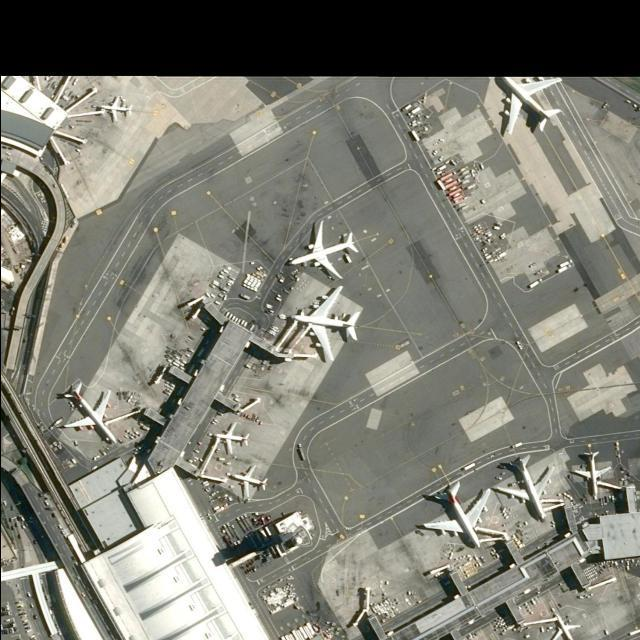Aircraft: (284, 285, 362, 363), (416, 482, 489, 554), (490, 75, 564, 139), (493, 453, 551, 523), (286, 223, 358, 279), (56, 384, 114, 445), (569, 450, 613, 500), (227, 466, 267, 500), (212, 423, 250, 456), (546, 611, 580, 640), (96, 97, 132, 121)
